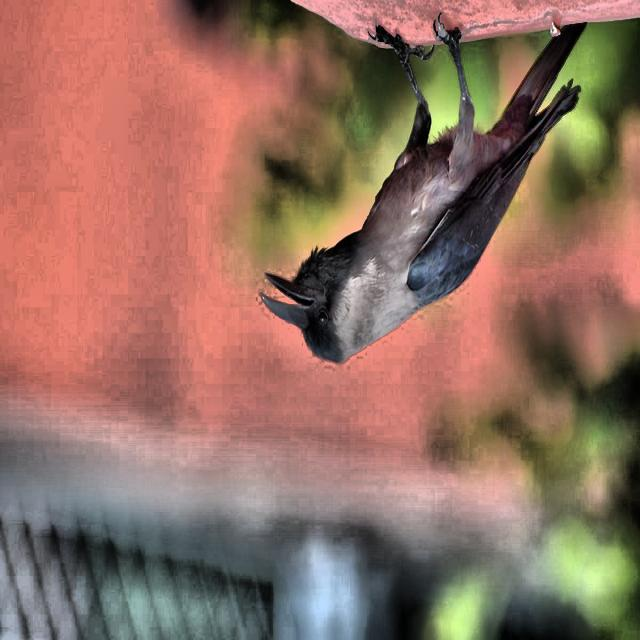crow: (270, 14, 610, 404)
